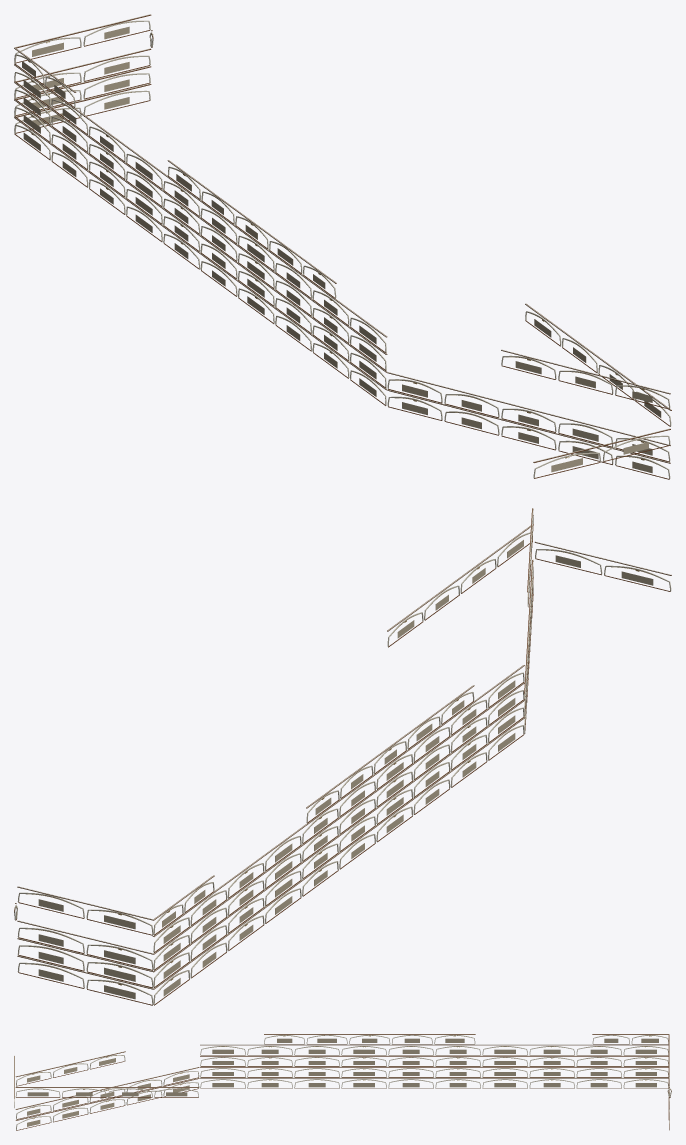
The model's file is SunsetEnclosure_r001.glb.
3 renders of one model, top to bottom at view 1: azimuth 30°, elevation 25°; view 2: azimuth 150°, elevation 25°; view 3: azimuth 270°, elevation 25°, orthographic. The views are drawn at different scales.
Parts seen in each view (by area): view 1: no part large enough to name; view 2: no part large enough to name; view 3: SC_OuterEnclosure_3_0_0_CrownLip, SC_OuterEnclosure_3_0_0_UpperSoffit, SC_OuterEnclosure_3_1_0_UpperSoffit, SC_OuterEnclosure_3_1_0_CrownLip, SC_OuterEnclosure_3_2_0_UpperSoffit, SC_OuterEnclosure_3_2_0_CrownLip, SC_OuterEnclosure_3_3_0_UpperSoffit, SC_OuterEnclosure_3_3_0_CrownLip, SC_OuterEnclosure_3_4_0_UpperSoffit, SC_OuterEnclosure_3_4_0_CrownLip, SC_OuterEnclosure_0_1_0_UpperSoffit, SC_OuterEnclosure_0_0_0_UpperSoffit (+4 smaller).
Boxes of the visible parts, x1=… form: SC_OuterEnclosure_3_0_0_CrownLip: x1=200, y1=1077, x2=668, y2=1078; SC_OuterEnclosure_3_0_0_UpperSoffit: x1=200, y1=1078, x2=668, y2=1078; SC_OuterEnclosure_3_1_0_UpperSoffit: x1=200, y1=1067, x2=668, y2=1067; SC_OuterEnclosure_3_1_0_CrownLip: x1=200, y1=1066, x2=668, y2=1066; SC_OuterEnclosure_3_2_0_UpperSoffit: x1=200, y1=1056, x2=668, y2=1056; SC_OuterEnclosure_3_2_0_CrownLip: x1=200, y1=1055, x2=668, y2=1055; SC_OuterEnclosure_3_3_0_UpperSoffit: x1=200, y1=1045, x2=668, y2=1045; SC_OuterEnclosure_3_3_0_CrownLip: x1=200, y1=1044, x2=668, y2=1044; SC_OuterEnclosure_3_4_0_UpperSoffit: x1=264, y1=1034, x2=475, y2=1034; SC_OuterEnclosure_3_4_0_CrownLip: x1=264, y1=1034, x2=475, y2=1034; SC_OuterEnclosure_0_1_0_UpperSoffit: x1=16, y1=1067, x2=199, y2=1109; SC_OuterEnclosure_0_0_0_UpperSoffit: x1=16, y1=1078, x2=199, y2=1120.
Bounding box in the file's own units: 37.34 × 22.13 × 242.
Materials: 5 (4 with a texture image).
